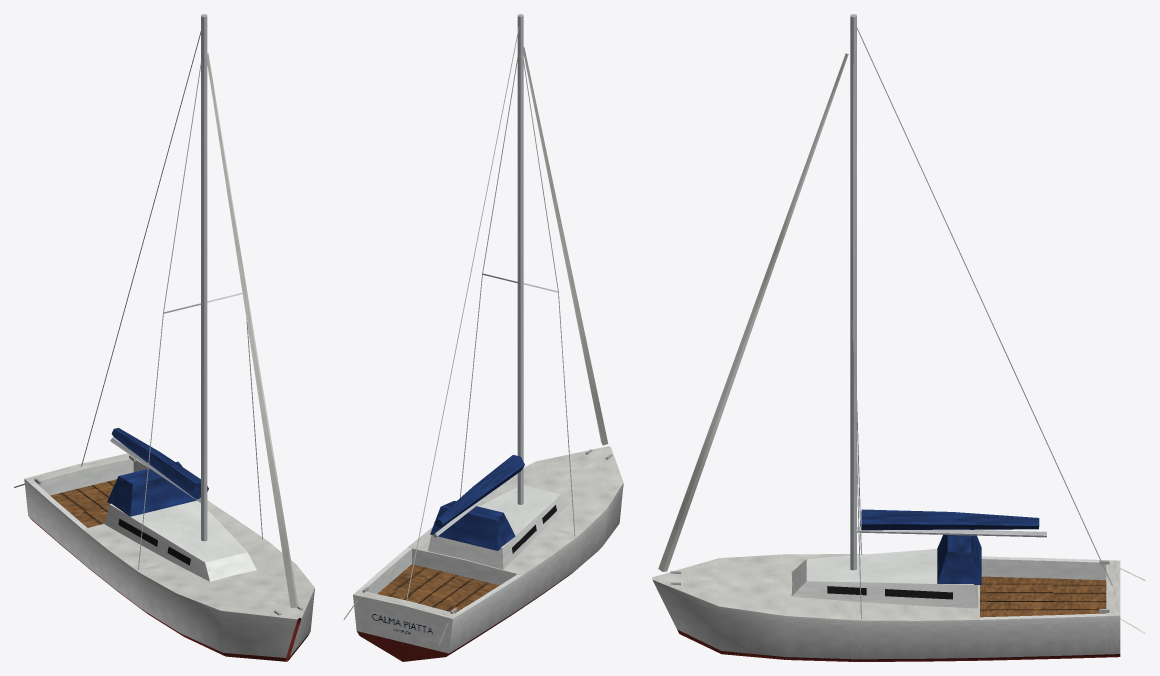
The model's file is SM_Morin_Barca_Vela9_CoprirandaBlu_LOD1.fbx.
3 views of the same model, side by side, from view 1: azimuth 30°, elevation 25°; view 2: azimuth 150°, elevation 25°; view 3: azimuth 270°, elevation 25° (orthographic). The views are drawn at different scales.
Parts seen in each view (by area): view 1: SM_Morin_Barca_Vela9_CoprirandaBlu_LOD1; view 2: SM_Morin_Barca_Vela9_CoprirandaBlu_LOD1; view 3: SM_Morin_Barca_Vela9_CoprirandaBlu_LOD1.
Boxes of the visible parts, left/top/right/bottom form: SM_Morin_Barca_Vela9_CoprirandaBlu_LOD1: left=14, top=14, right=314, bottom=661; SM_Morin_Barca_Vela9_CoprirandaBlu_LOD1: left=343, top=14, right=623, bottom=661; SM_Morin_Barca_Vela9_CoprirandaBlu_LOD1: left=652, top=14, right=1145, bottom=661.
Size of the model in its own units: 300 by 944 by 1340.
1 material, 1 textured.
